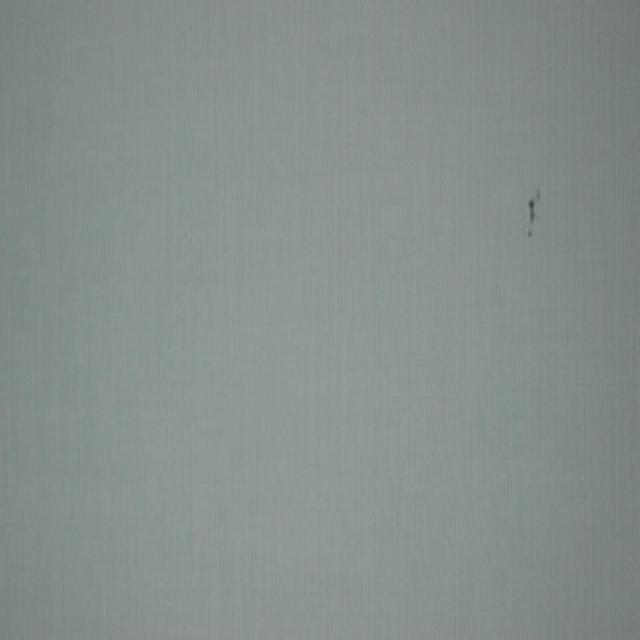dirty: (527, 190, 541, 238)
